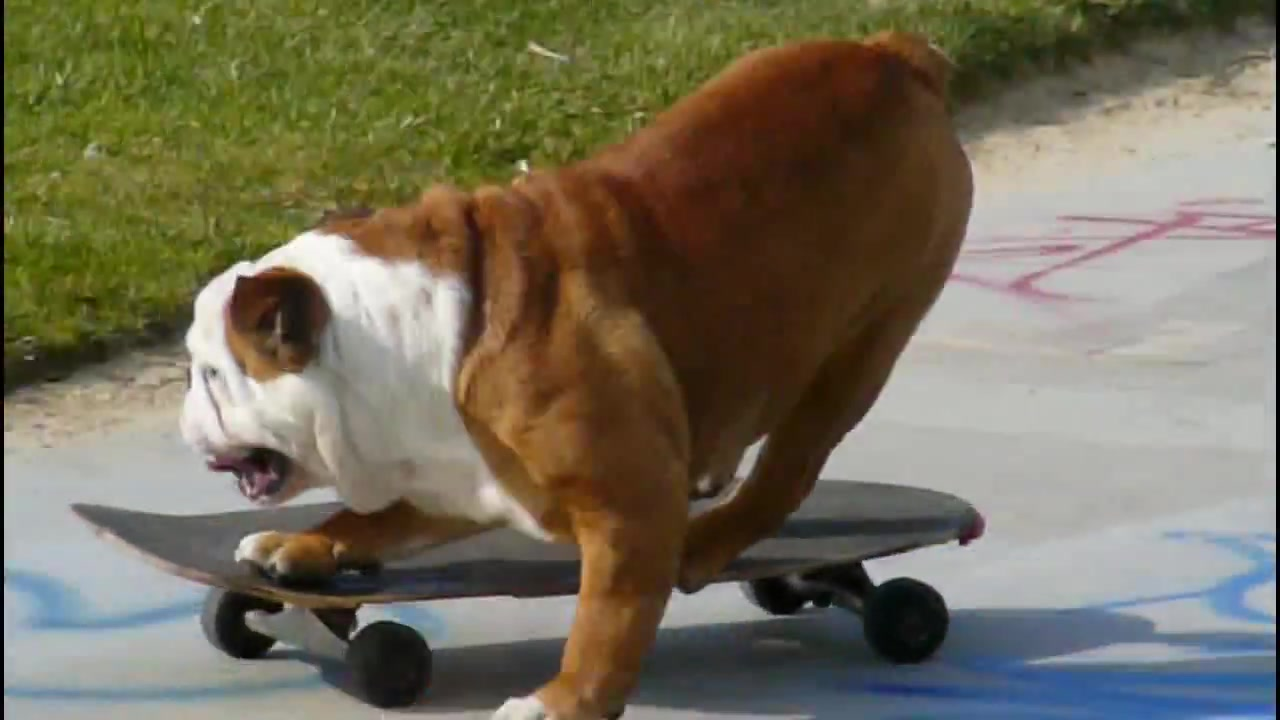dog: (180, 26, 986, 720)
